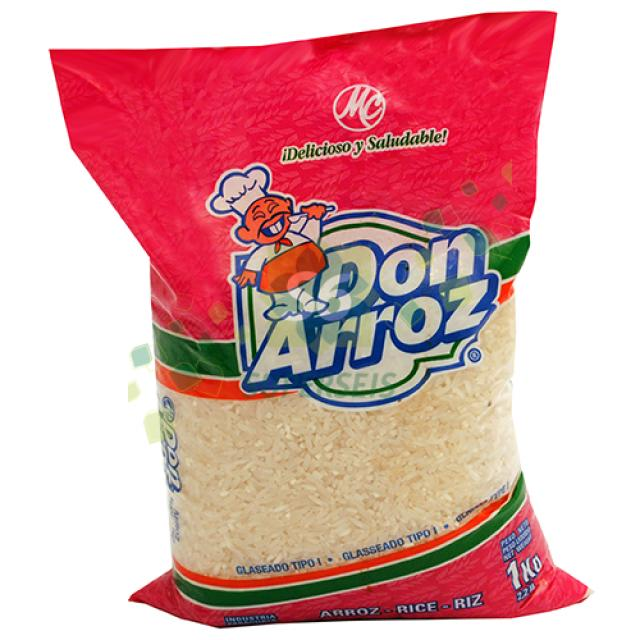Paquete: (46, 8, 593, 634)
